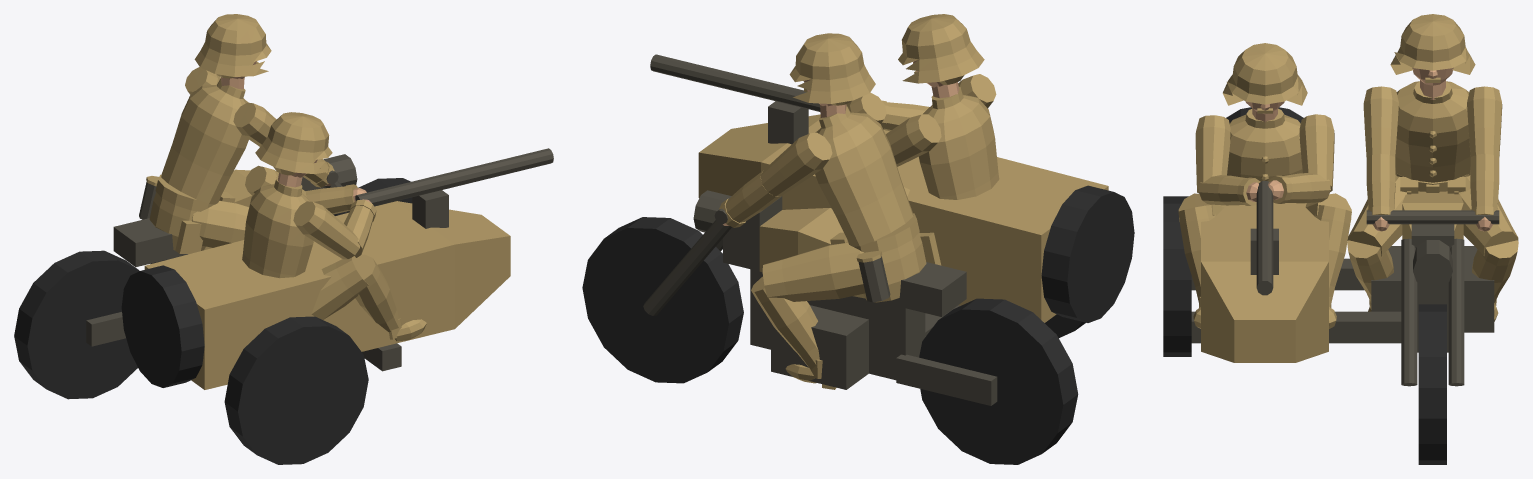
File: de_motorcycle_and_sidecar.obj
3 views of the same model, side by side, from view 1: azimuth 30°, elevation 25°; view 2: azimuth 150°, elevation 25°; view 3: azimuth 270°, elevation 25° (orthographic). The views are drawn at different scales.
Bounding box in the file's own units: 2.34 × 1.68 × 1.5.
